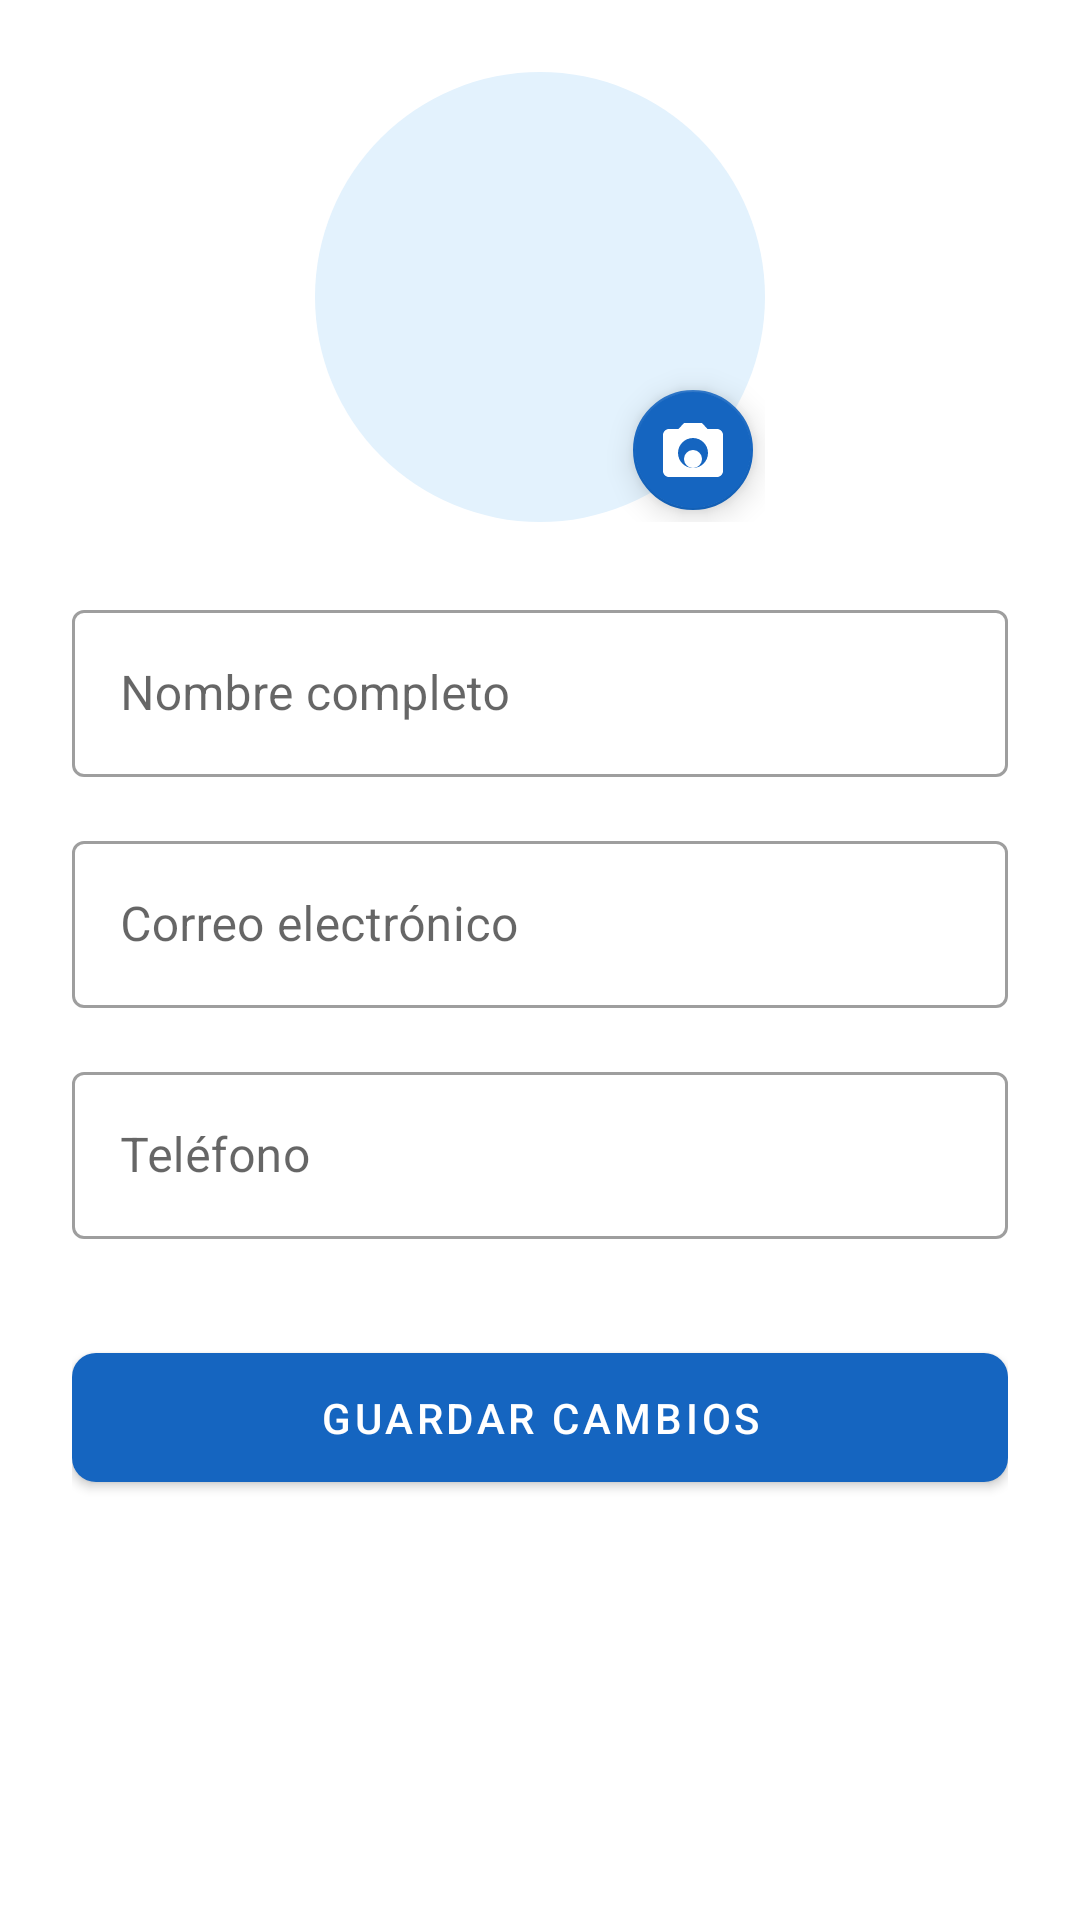

Screen size 1080×1920. Icon name, then its center in pixels as [x,y]:
Cambiar foto: [693,450]
